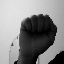a: (17, 13, 58, 50)
